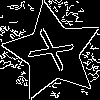X: (28, 27, 85, 77)
